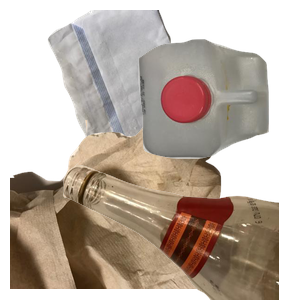glass: (60, 120, 300, 300)
paper: (45, 10, 251, 190)
plastic: (136, 37, 300, 188)
trash: (10, 120, 229, 300)
